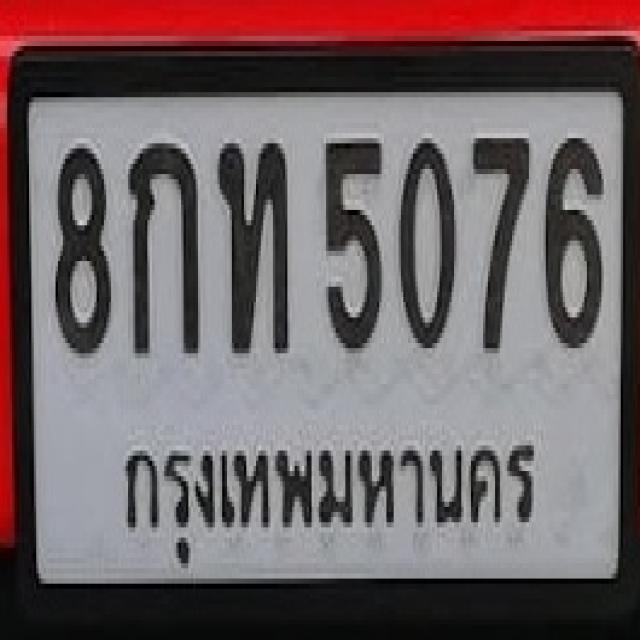license_plate: (9, 41, 640, 640)
